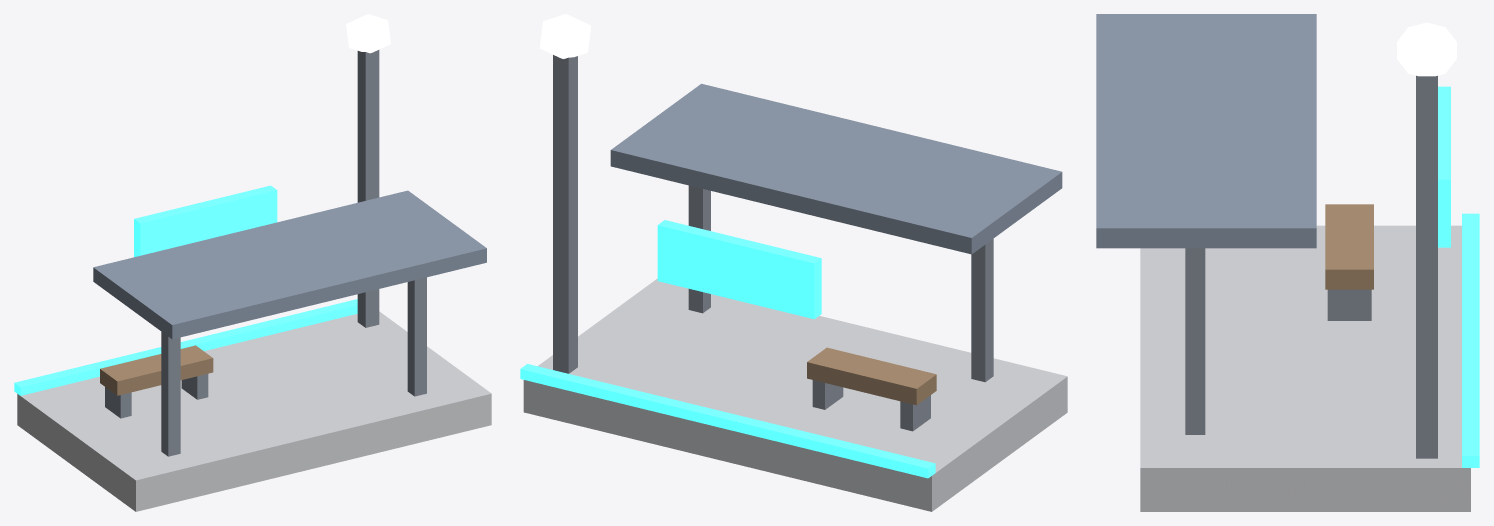
The model's file is station.glb.
3 renders of one model, left to right at view 1: azimuth 30°, elevation 25°; view 2: azimuth 150°, elevation 25°; view 3: azimuth 270°, elevation 25°, orthographic. The views are drawn at different scales.
Parts seen in each view (by area): view 1: MetroStation; view 2: MetroStation; view 3: MetroStation.
Part boxes in pixels (x1,y1,x2,y2): MetroStation: [14, 14, 491, 511]; MetroStation: [520, 14, 1067, 511]; MetroStation: [1096, 14, 1479, 511].
Bounding box in the file's own units: 2.6 × 2.38 × 1.74.
